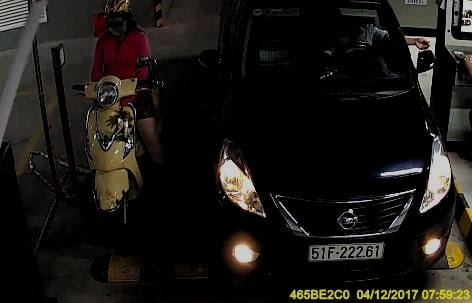plate: (308, 240, 383, 261)
